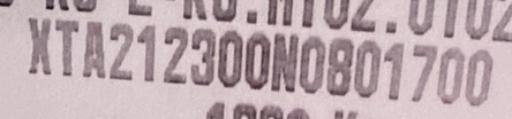letter: (434, 44, 466, 107), (463, 45, 495, 108), (160, 23, 190, 86), (216, 25, 244, 92), (352, 37, 382, 98), (243, 28, 271, 93), (54, 16, 82, 79), (189, 26, 217, 89), (270, 32, 298, 95), (297, 32, 325, 95), (325, 36, 353, 99), (410, 41, 438, 104), (26, 16, 54, 77), (107, 20, 135, 81), (134, 22, 158, 85), (82, 18, 106, 79), (382, 38, 404, 101)
